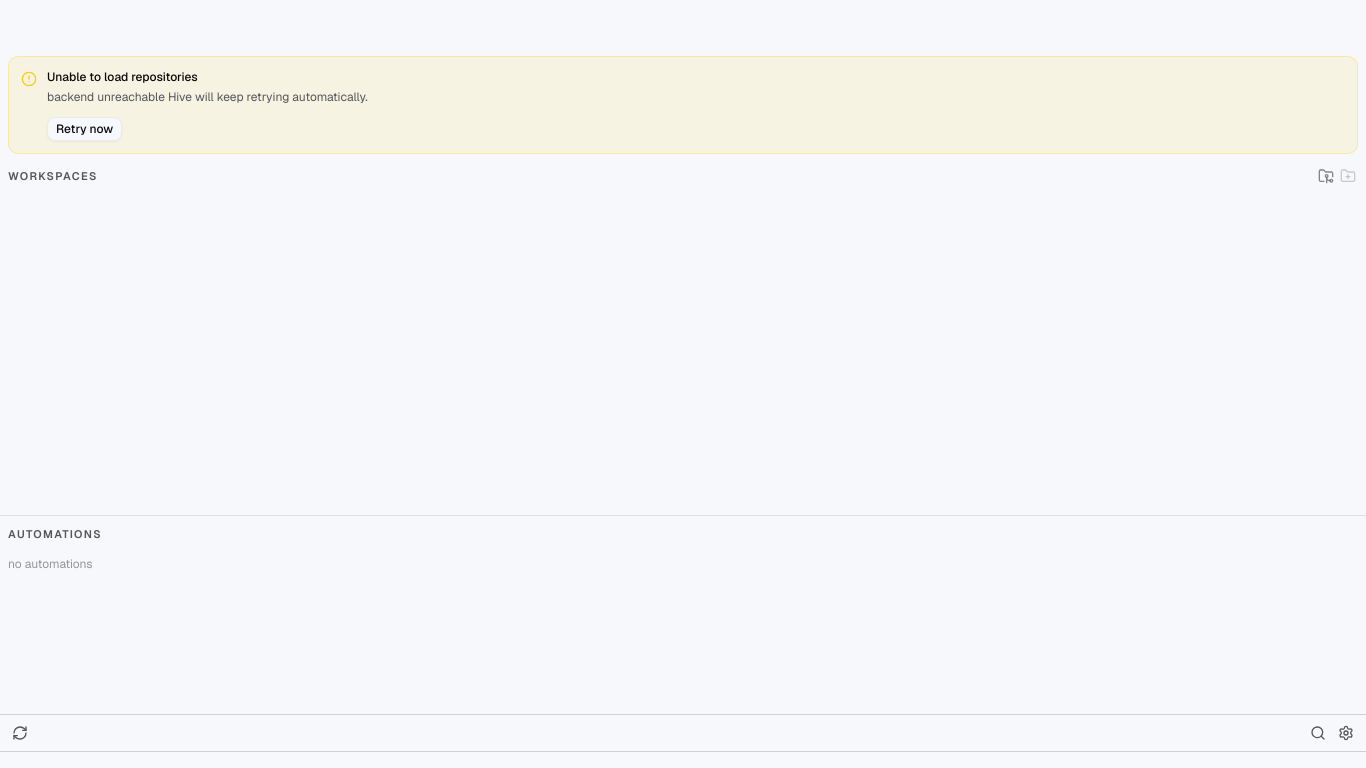
Scenario: Sidebar › shows a retry banner when projects fail to load and can recover manually
The image size is (1366, 768).
Expected: the text "Unable to load repositories" is shown, top-left (47, 69), bottom-right (198, 85)
Expected: the text "backend unreachable Hive will keep retrying automatically." is shown, top-left (47, 89), bottom-right (368, 105)
Click the button "Retry now": (85,129) top-left (47, 117), bottom-right (122, 141)
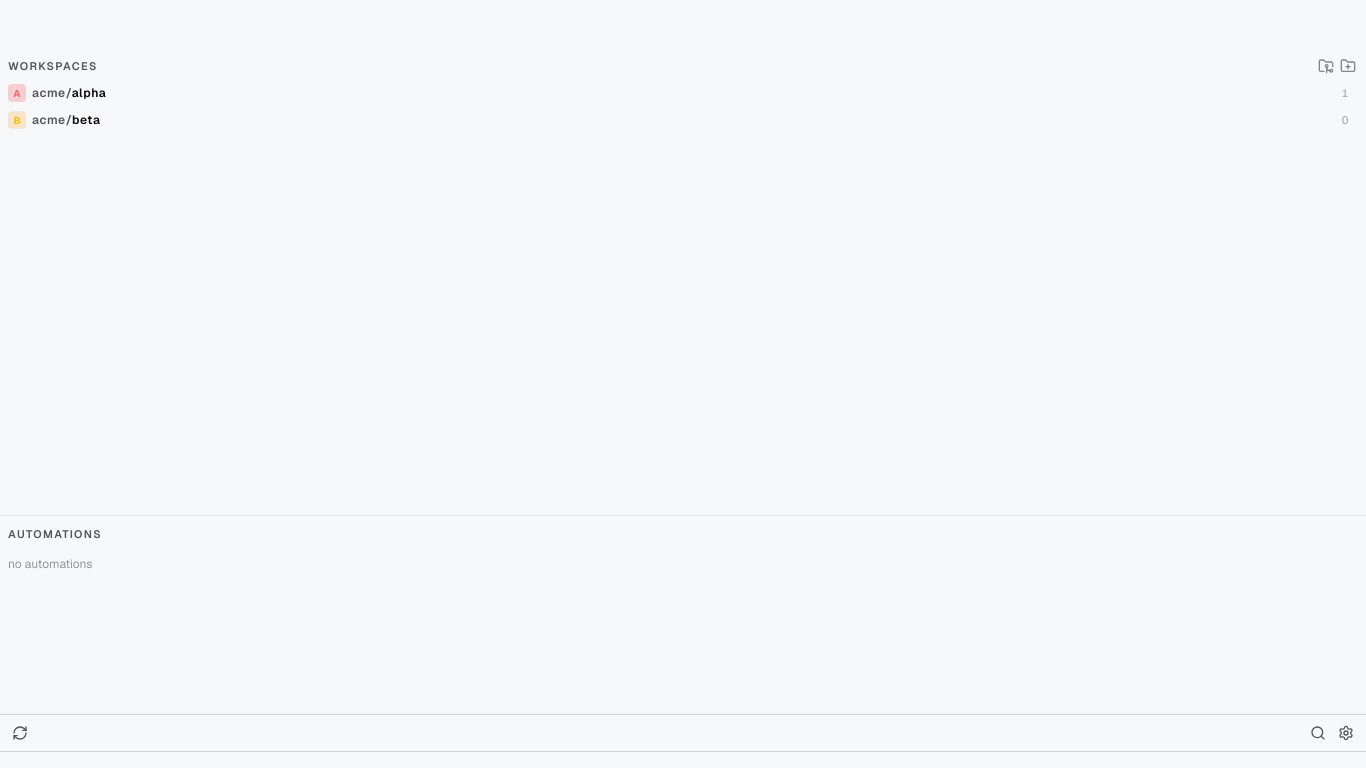
Expected: the text "Unable to load repositories" is gone
